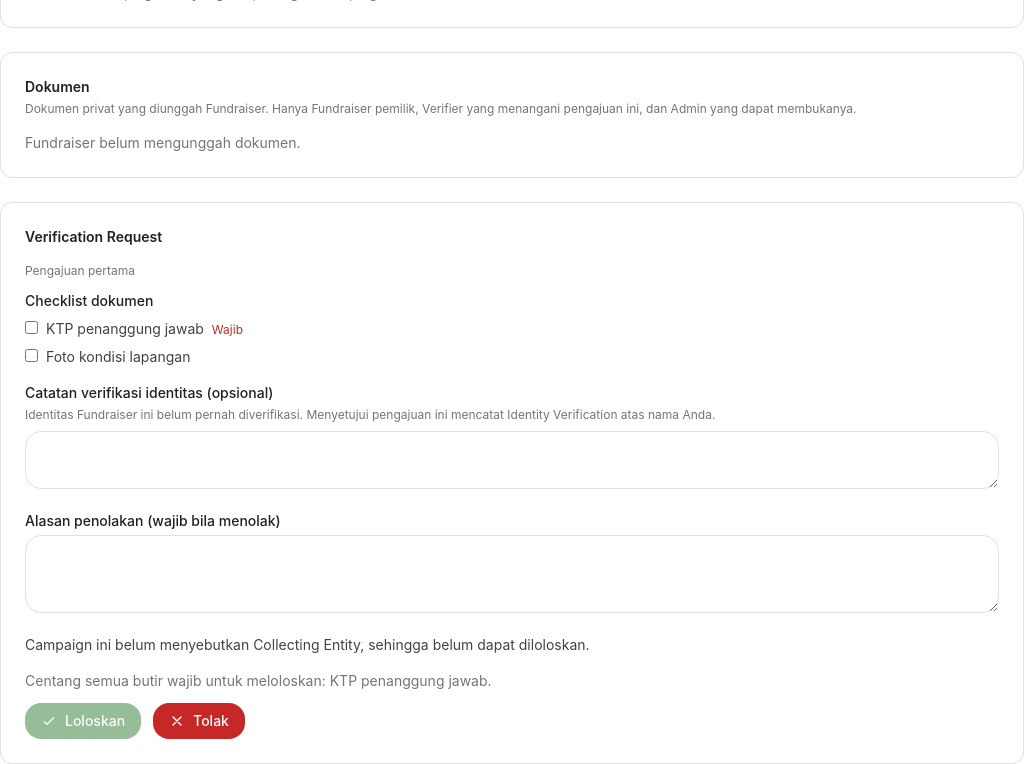
Scenario: the moderation page of one Campaign › refuses to reject without a reason before asking the server
(page scrolled)
What coordinates should you click on to do the following:
click the button "Tolak"
I would click on:
 (199, 721)
Its box is [153, 703, 245, 739].
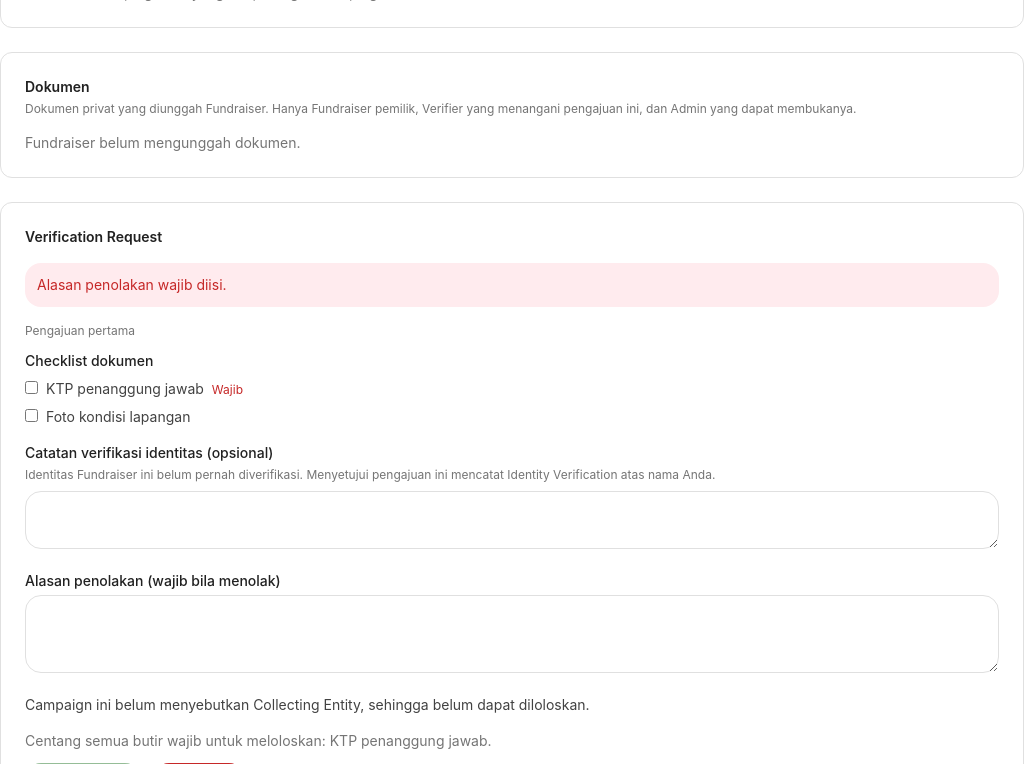
Result: the text "Alasan penolakan wajib diisi." is shown at [25, 263, 999, 307]
